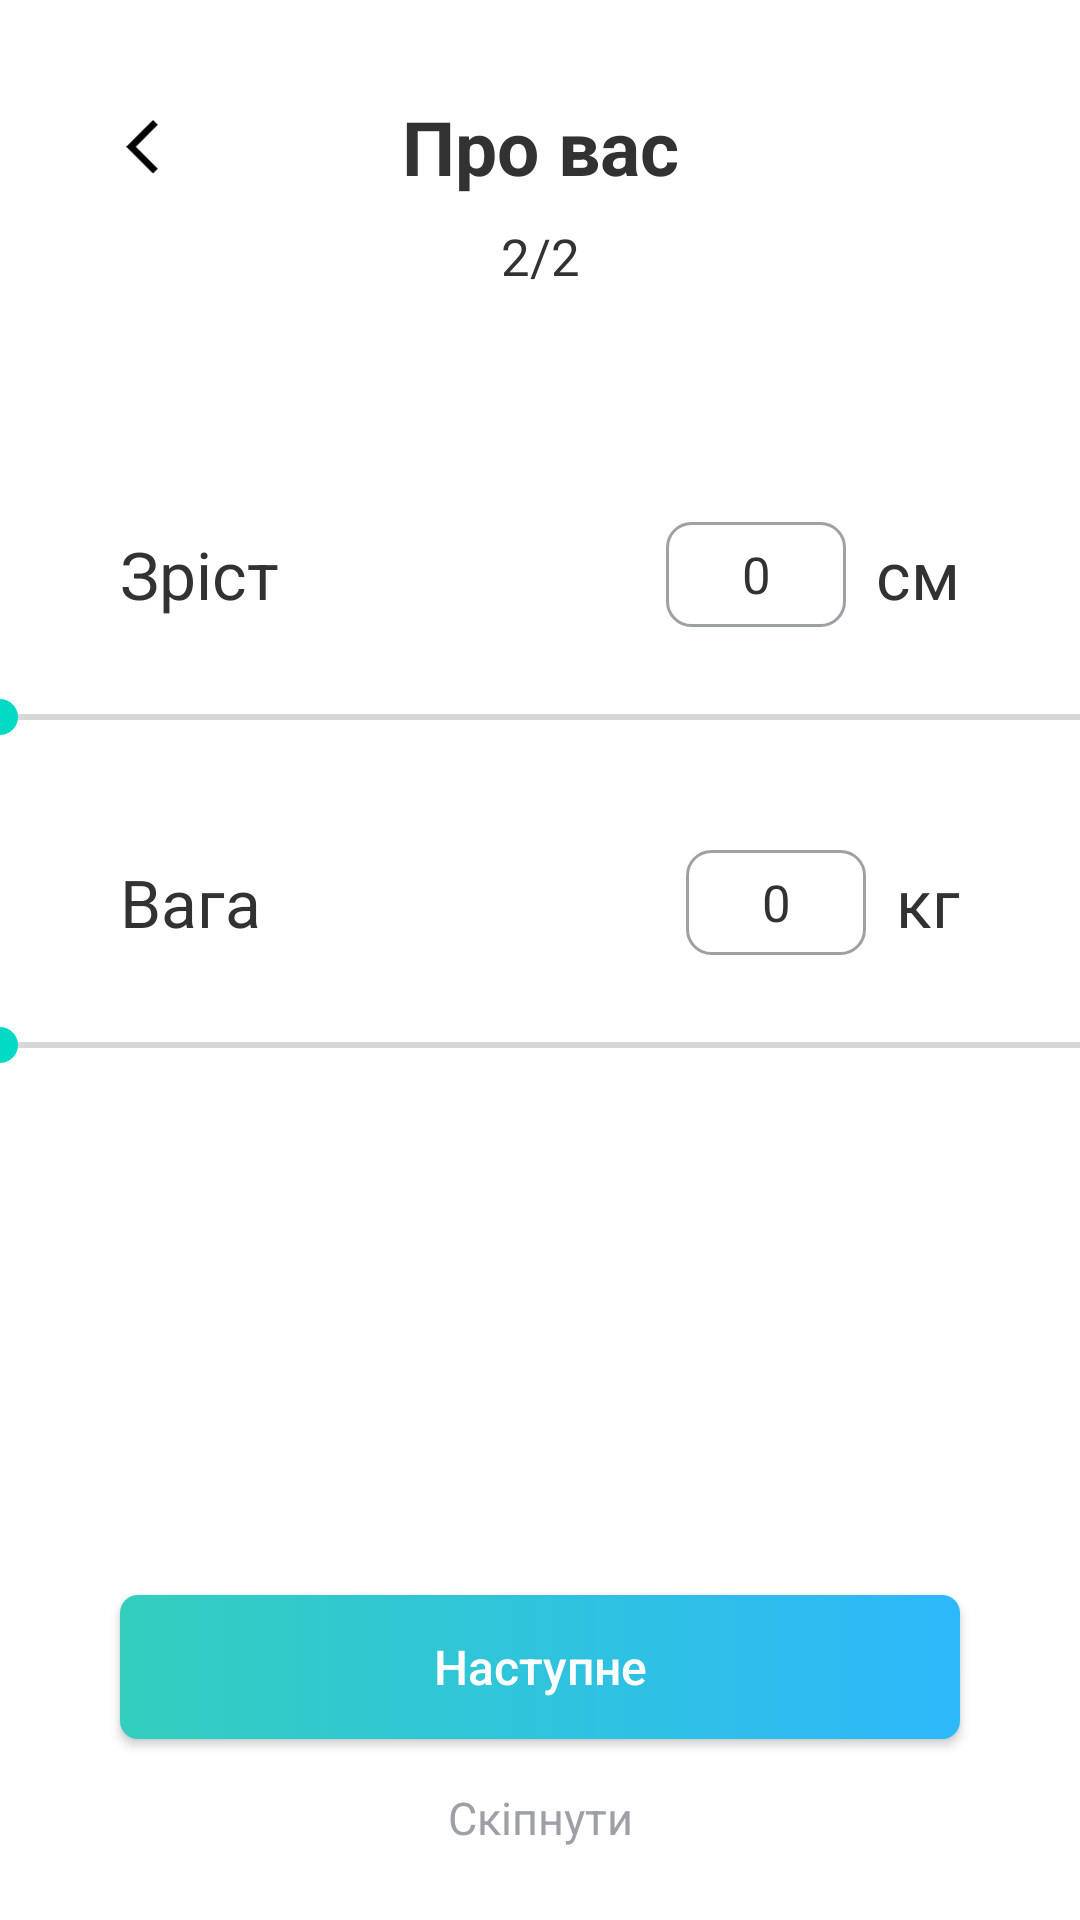

Icon click points for this 1080w x 1920h phone screenshot, format point (x, y):
back arrow: point (142, 147)
